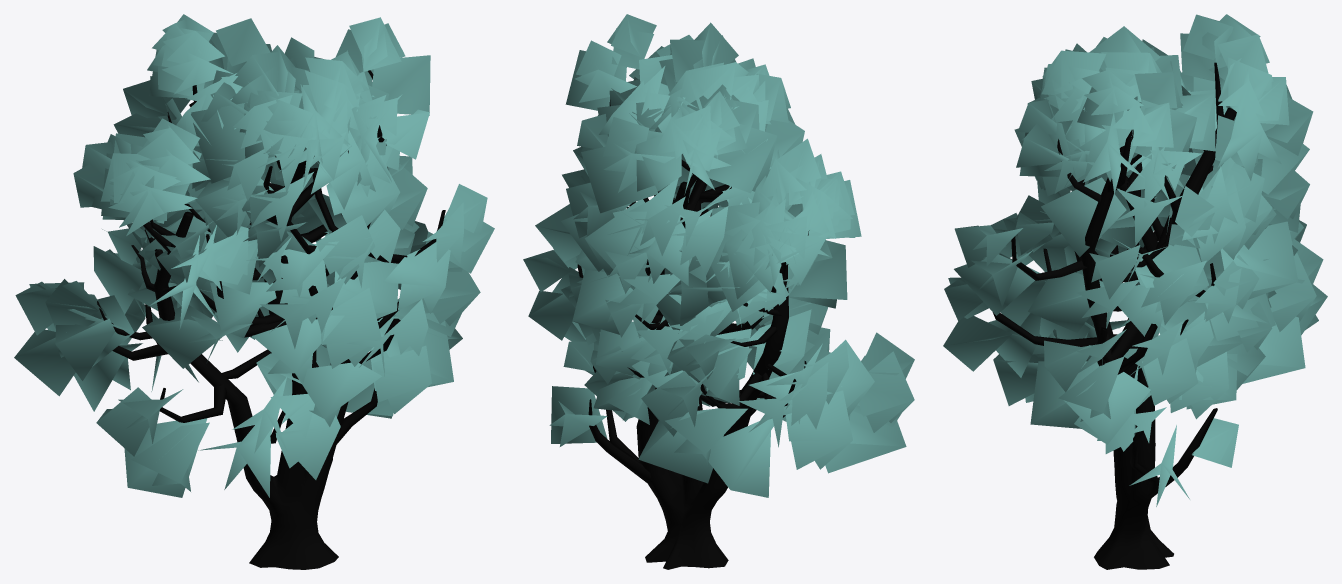
The model's file is MESH_JapaneseRed_03.fbx.
3 renders of one model, left to right at view 1: azimuth 30°, elevation 25°; view 2: azimuth 150°, elevation 25°; view 3: azimuth 270°, elevation 25°, orthographic. The views are drawn at different scales.
Visible parts, largest first — view 1: Mesh_03JapaneseRedLOD0; view 2: Mesh_03JapaneseRedLOD0; view 3: Mesh_03JapaneseRedLOD0.
Boxes of the visible parts, box(x1,y1,x2,y2) form: Mesh_03JapaneseRedLOD0: box(14, 14, 494, 569); Mesh_03JapaneseRedLOD0: box(523, 14, 914, 569); Mesh_03JapaneseRedLOD0: box(943, 14, 1327, 569).
Size of what is drawn, in the model's own units: 1079 by 1419 by 951.
